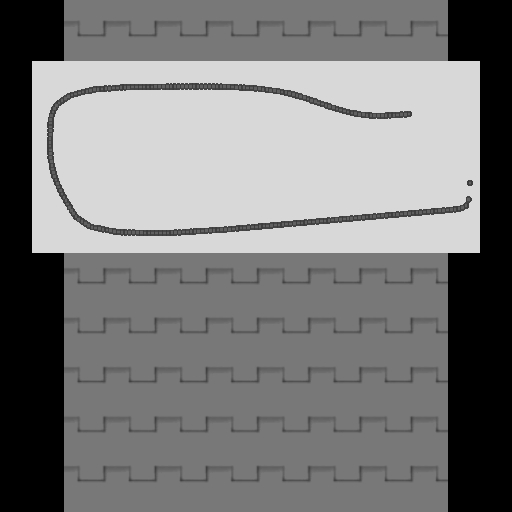Defect: (409, 99, 458, 122)
